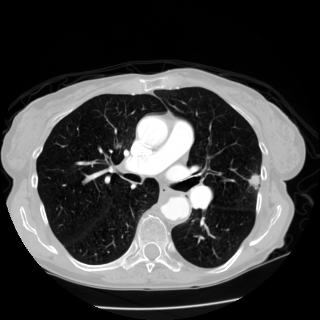nodule: (247, 173, 261, 187)
